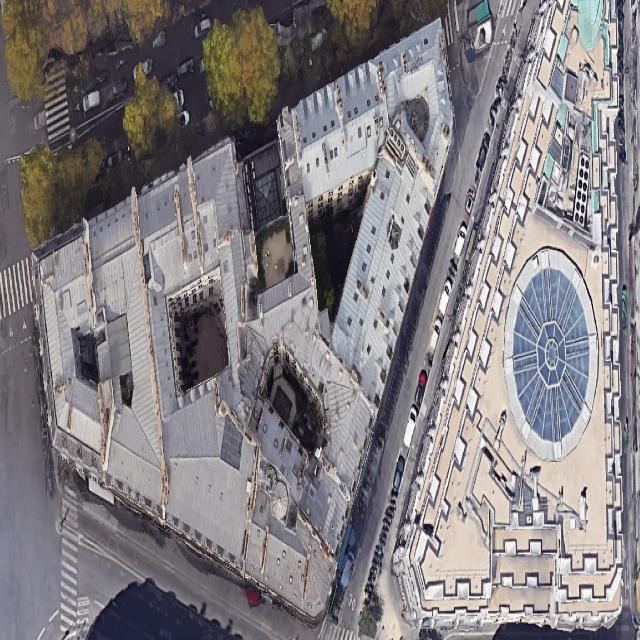immeuble: (389, 0, 640, 636), (286, 19, 486, 406), (204, 289, 427, 562), (29, 194, 167, 533), (131, 139, 272, 421), (198, 464, 354, 635), (147, 391, 263, 571), (249, 113, 315, 313)
